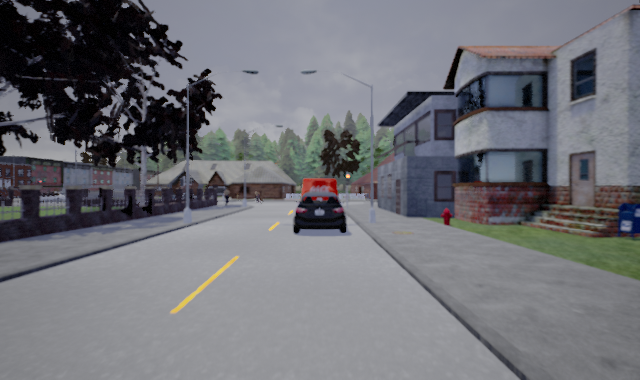bike: (249, 189, 267, 205)
pedestrian: (220, 186, 232, 206)
vehicle: (290, 191, 349, 236), (298, 177, 341, 218)
